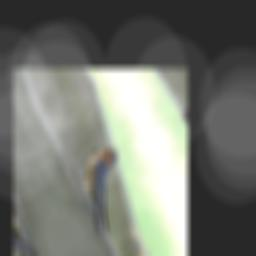Swallow: (65, 139, 152, 251)
